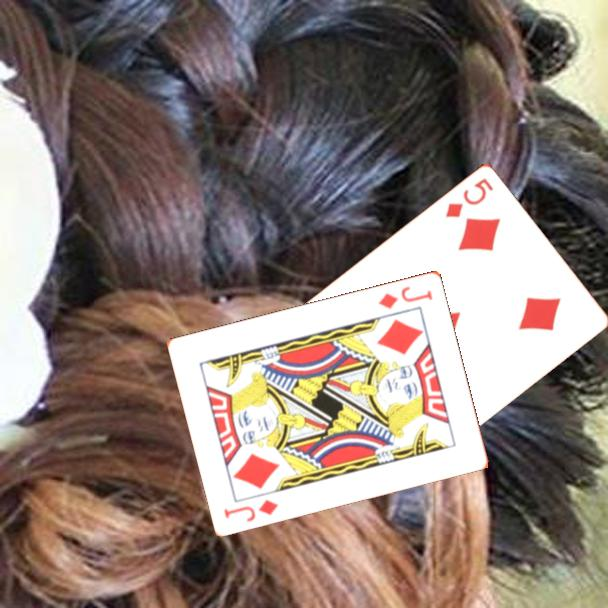d05: (442, 174, 496, 220)
d11: (375, 282, 436, 311), (221, 496, 282, 524)
